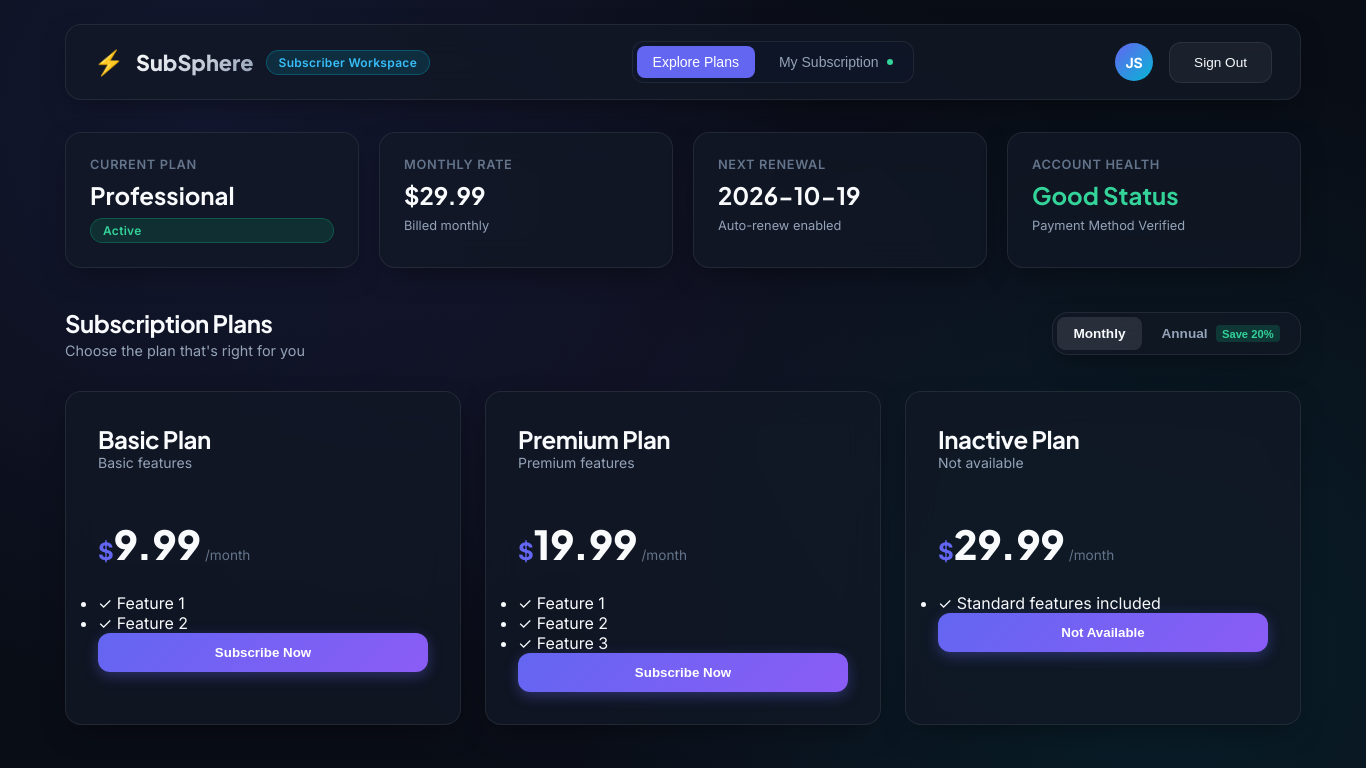
SubscriberDashboard › failed subscription shows error message
expect the heading "Basic Plan" is shown: met, box [98, 424, 211, 454]
Click the button "Subscribe Now" below "Basic features" at (263, 652), box [98, 633, 428, 672]
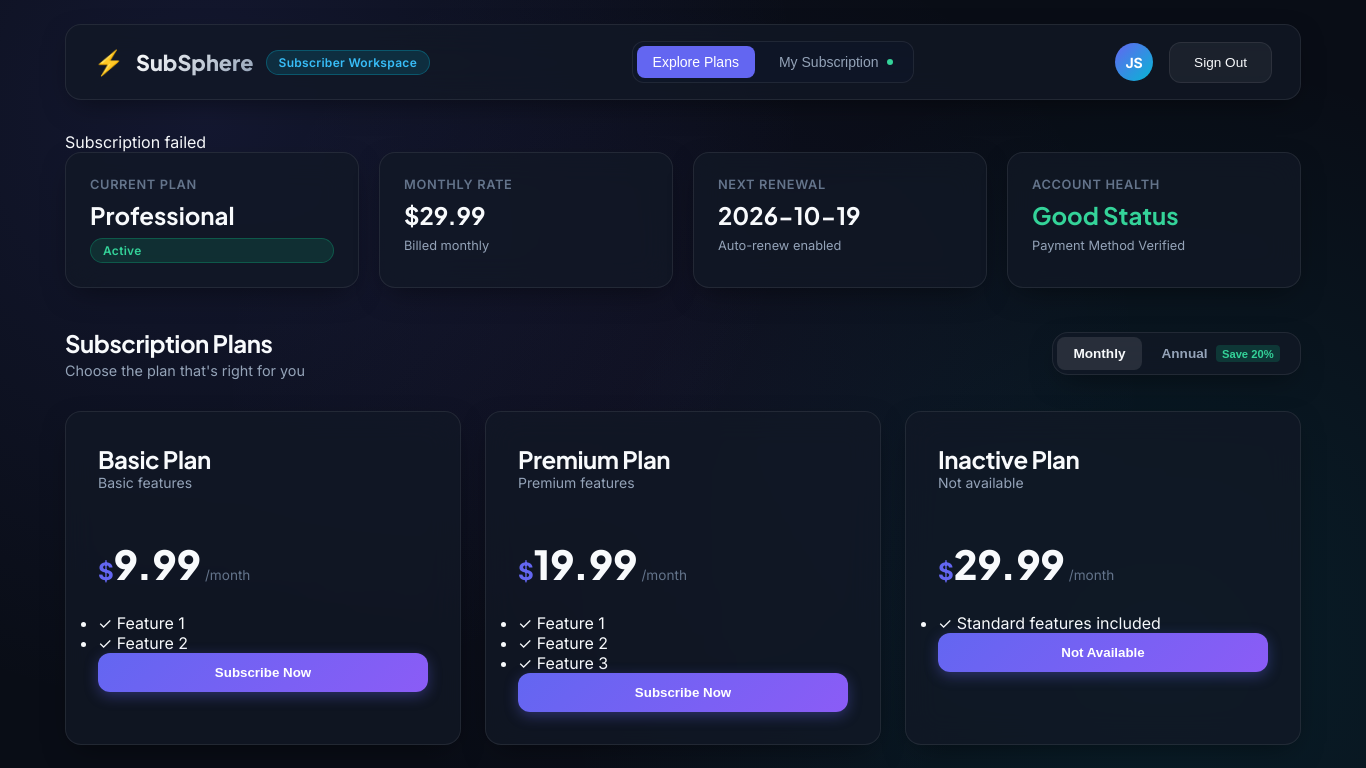
expect the text "Subscription failed" is shown: met, box [65, 132, 206, 152]
